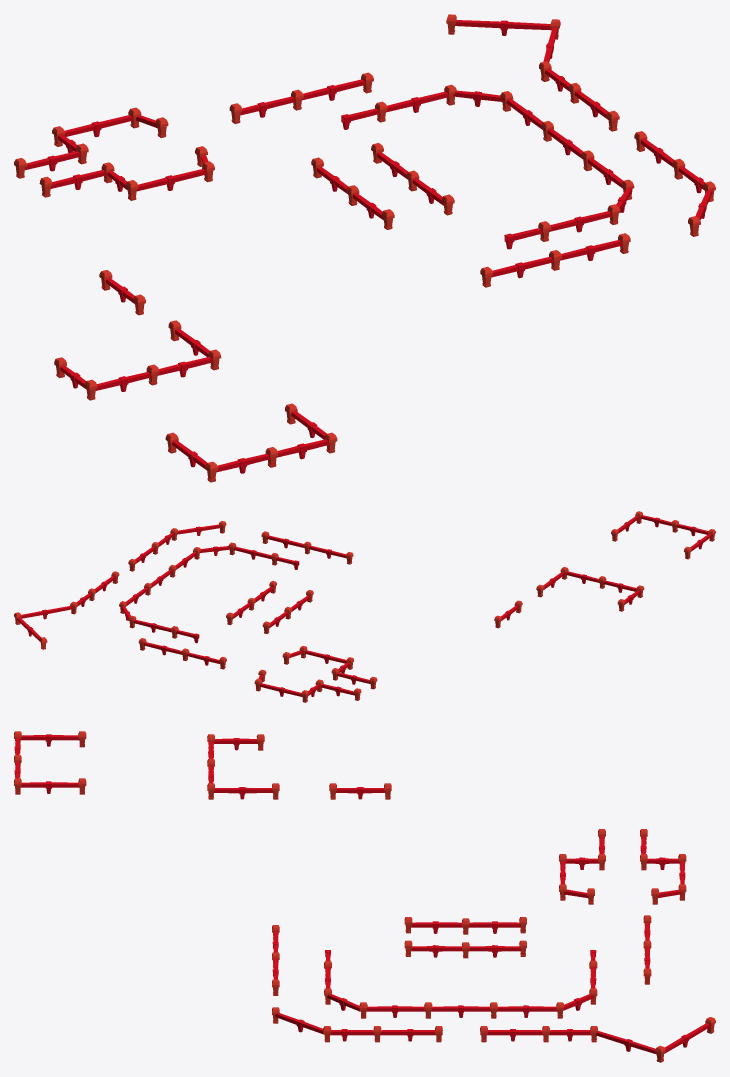
The model's file is Bareer.fbx.
The picture shows the model from 3 angles, top to bottom: view 1: azimuth 30°, elevation 25°; view 2: azimuth 150°, elevation 25°; view 3: azimuth 270°, elevation 25°; orthographic projection. The views are drawn at different scales.
Parts seen in each view (by area): view 1: Barrière, Poto; view 2: Barrière, Poto; view 3: Barrière, Poto.
Part boxes in pixels (bbox=[...]): Barrière: bbox=[25, 20, 712, 473]; Poto: bbox=[14, 14, 715, 482]; Barrière: bbox=[17, 515, 711, 696]; Poto: bbox=[14, 511, 715, 702]; Barrière: bbox=[14, 734, 710, 1054]; Poto: bbox=[14, 731, 715, 1062].
Bounding box in the file's own units: 89.1 × 5.04 × 88.85.
